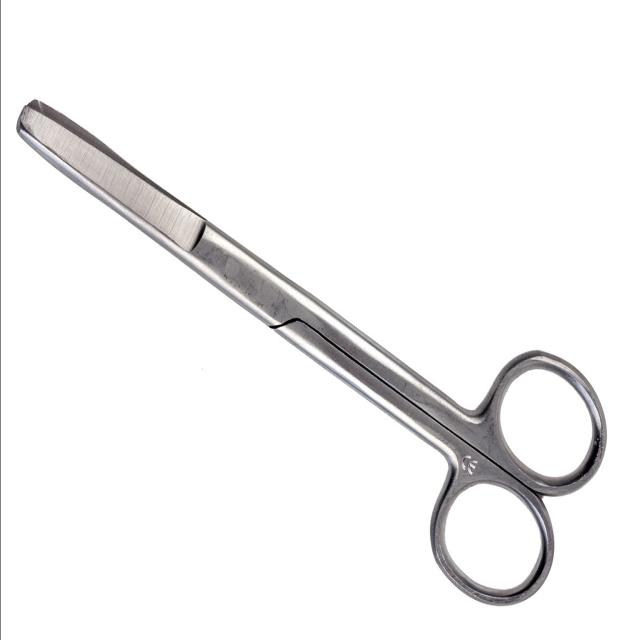Gunting: (12, 86, 616, 609)
